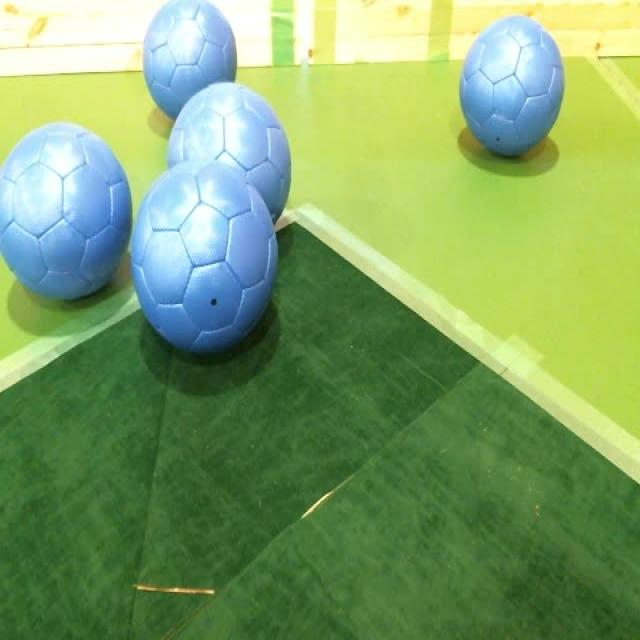blue_ball: (129, 164, 279, 355), (0, 125, 134, 302), (165, 80, 291, 230), (459, 17, 564, 154), (142, 0, 240, 124)
